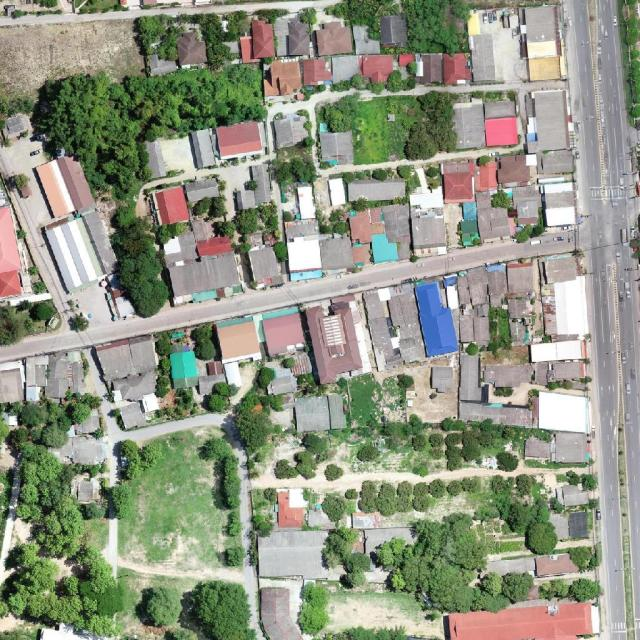building: (361, 274, 462, 371), (528, 254, 593, 387), (95, 332, 174, 433), (346, 199, 448, 267), (456, 354, 536, 427), (306, 299, 372, 385), (448, 602, 593, 640), (441, 152, 540, 203), (282, 213, 355, 282), (44, 217, 105, 292), (34, 152, 97, 222), (188, 119, 269, 169), (215, 314, 267, 388), (452, 97, 519, 150), (453, 188, 512, 247), (167, 251, 241, 298), (469, 27, 528, 85), (257, 531, 328, 578), (444, 264, 509, 312), (524, 5, 562, 82), (81, 209, 121, 276), (507, 262, 538, 345), (535, 390, 592, 434), (258, 546, 329, 580), (260, 312, 307, 358), (534, 90, 569, 151), (0, 206, 23, 297), (414, 54, 471, 84), (238, 19, 276, 63), (542, 181, 576, 227), (159, 231, 201, 268), (347, 177, 406, 203), (248, 247, 283, 290), (51, 437, 108, 463), (273, 17, 310, 57), (314, 20, 354, 57), (511, 184, 544, 227), (293, 396, 330, 433), (155, 186, 190, 225), (364, 526, 414, 553), (169, 343, 198, 389), (273, 112, 309, 148), (265, 61, 301, 94), (278, 487, 307, 527), (320, 131, 354, 165), (176, 30, 208, 66), (534, 553, 578, 579), (554, 432, 588, 464), (484, 365, 531, 388), (183, 176, 220, 204), (360, 54, 394, 83), (250, 163, 274, 204), (408, 187, 445, 213), (197, 361, 226, 394), (144, 140, 168, 179), (195, 234, 233, 258), (380, 15, 408, 47), (537, 150, 574, 174), (486, 558, 535, 576), (459, 315, 489, 344), (146, 50, 178, 77), (352, 25, 380, 54), (267, 368, 297, 395), (555, 484, 590, 507), (331, 54, 359, 82), (303, 59, 332, 85), (327, 393, 347, 429), (524, 437, 553, 460), (297, 185, 316, 219), (191, 217, 214, 243), (431, 366, 454, 392), (567, 512, 589, 539), (261, 305, 300, 320), (326, 177, 346, 206), (289, 353, 313, 377), (308, 509, 335, 529), (351, 512, 381, 529), (235, 190, 256, 210), (163, 237, 182, 256), (365, 568, 389, 583), (78, 481, 94, 502), (246, 230, 264, 248), (224, 41, 241, 55), (264, 79, 274, 96), (399, 54, 412, 67)
dryland: (0, 18, 145, 98), (404, 361, 459, 423)
greenland: (32, 63, 271, 204), (0, 442, 141, 637), (115, 425, 236, 574), (319, 90, 458, 165), (97, 199, 176, 322), (354, 421, 519, 479), (195, 432, 260, 569), (0, 390, 107, 454), (344, 475, 484, 518), (311, 517, 387, 593), (105, 434, 166, 525), (268, 427, 339, 496), (500, 489, 562, 564), (401, 0, 469, 53), (142, 383, 205, 431), (0, 300, 62, 345), (134, 12, 187, 64), (193, 9, 237, 70), (211, 202, 279, 239), (231, 403, 279, 455), (347, 0, 400, 40), (348, 374, 385, 429), (477, 419, 530, 454), (298, 582, 332, 635), (537, 579, 600, 603), (487, 307, 511, 358), (135, 579, 167, 617), (231, 387, 266, 420), (190, 323, 218, 362), (490, 475, 536, 498), (567, 543, 600, 574), (156, 334, 171, 398), (192, 196, 228, 220), (251, 363, 279, 391), (569, 579, 601, 603), (225, 11, 250, 41), (320, 459, 346, 484), (254, 9, 289, 24), (206, 196, 228, 218), (297, 7, 318, 27), (208, 394, 229, 412), (69, 314, 89, 331)
metalled_road: (109, 409, 229, 450), (180, 0, 331, 15), (450, 78, 568, 97), (73, 346, 110, 401), (238, 452, 254, 551), (394, 80, 444, 101), (101, 409, 122, 441), (310, 89, 341, 103), (127, 6, 163, 18), (311, 110, 318, 163), (162, 6, 186, 18)
